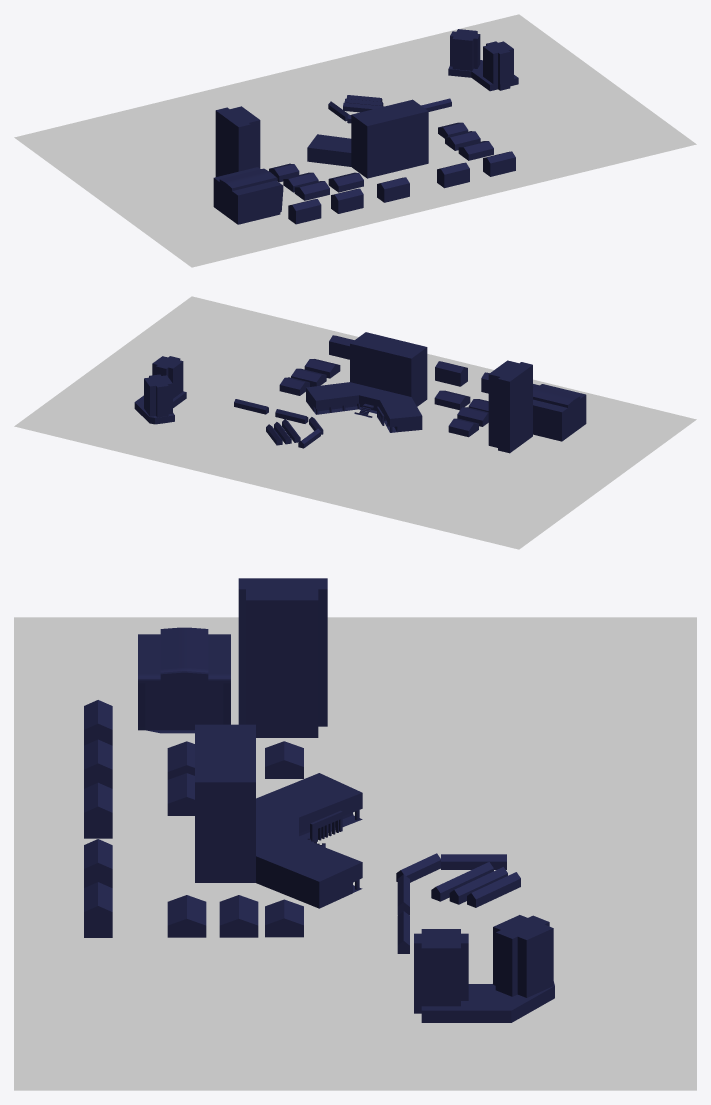
The model's file is 3dMap.fbx.
3 renders of one model, top to bottom at view 1: azimuth 30°, elevation 25°; view 2: azimuth 150°, elevation 25°; view 3: azimuth 270°, elevation 25°, orthographic. The views are drawn at different scales.
Visible parts, largest first — view 1: Plane, GU, Cube.019, Cube, Cube.018, Cube.003, Cube.005, Cube.009, Cube.006, Cube.010; view 2: Plane, GU, Cube.003, Cube, Cube.018, Cube.019, Cube.005, Cube.009, Cube.008, Cube.007, Cube.011, Cube.010; view 3: Plane, GU, Cube.003, Cube.018, Cube, Cube.019, Cube.009, Cube.010, Cube.011, Cube.008, Cube.005, Cube.014 (+3 smaller).
Part boxes in pixels (left/top/right/bottom): Plane: left=14, top=14, right=696, bottom=267; GU: left=307, top=99, right=428, bottom=178; Cube.019: left=288, top=151, right=515, bottom=224; Cube: left=213, top=167, right=283, bottom=224; Cube.018: left=448, top=29, right=518, bottom=91; Cube.003: left=215, top=106, right=260, bottom=176; Cube.005: left=328, top=172, right=363, bottom=192; Cube.009: left=458, top=141, right=493, bottom=160; Cube.006: left=294, top=181, right=329, bottom=200; Cube.010: left=445, top=131, right=480, bottom=150; Plane: left=14, top=296, right=696, bottom=549; GU: left=306, top=332, right=427, bottom=432; Cube.003: left=488, top=360, right=532, bottom=453; Cube: left=533, top=384, right=586, bottom=441; Cube.018: left=134, top=356, right=186, bottom=424; Cube.019: left=329, top=335, right=539, bottom=393; Cube.005: left=434, top=390, right=470, bottom=410; Cube.009: left=304, top=359, right=340, bottom=378; Cube.008: left=448, top=418, right=478, bottom=437; Cube.007: left=457, top=407, right=488, bottom=426; Cube.011: left=279, top=377, right=309, bottom=395; Cube.010: left=291, top=368, right=326, bottom=386; Plane: left=14, top=617, right=696, bottom=1090; GU: left=195, top=724, right=362, bottom=908; Cube.003: left=238, top=578, right=327, bottom=737; Cube.018: left=414, top=915, right=554, bottom=1022; Cube: left=138, top=627, right=230, bottom=733; Cube.019: left=84, top=700, right=112, bottom=937; Cube.009: left=167, top=895, right=206, bottom=937; Cube.010: left=219, top=895, right=258, bottom=937; Cube.011: left=265, top=899, right=303, bottom=937; Cube.008: left=265, top=741, right=303, bottom=778; Cube.005: left=167, top=773, right=194, bottom=815; Cube.014: left=441, top=854, right=506, bottom=869.
Size of the model in its own units: 1347 by 184 by 822.
